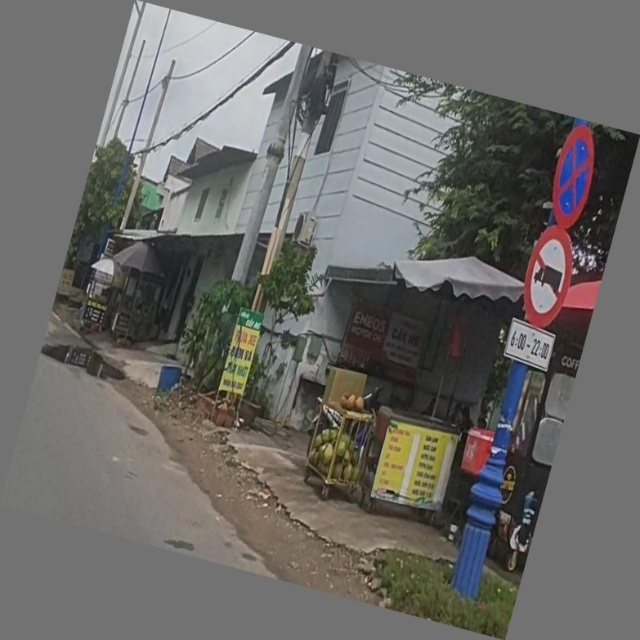B.8a: (514, 221, 584, 333)
P.130: (542, 122, 605, 232)
